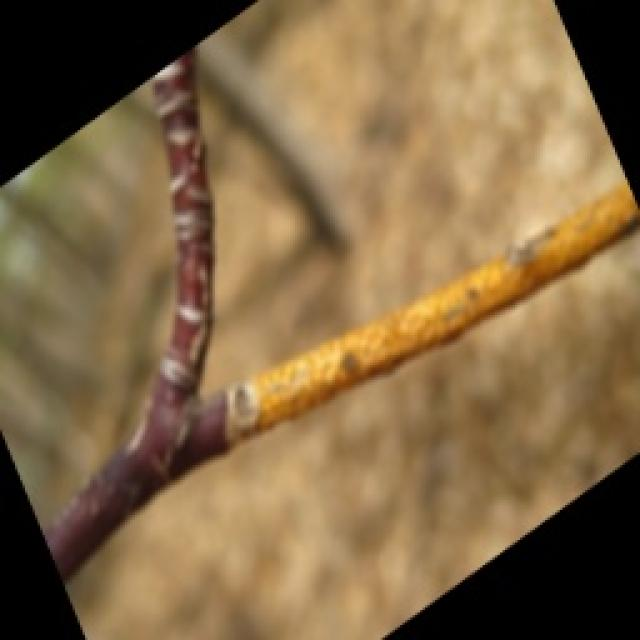Golden_canker: (218, 175, 638, 447)
